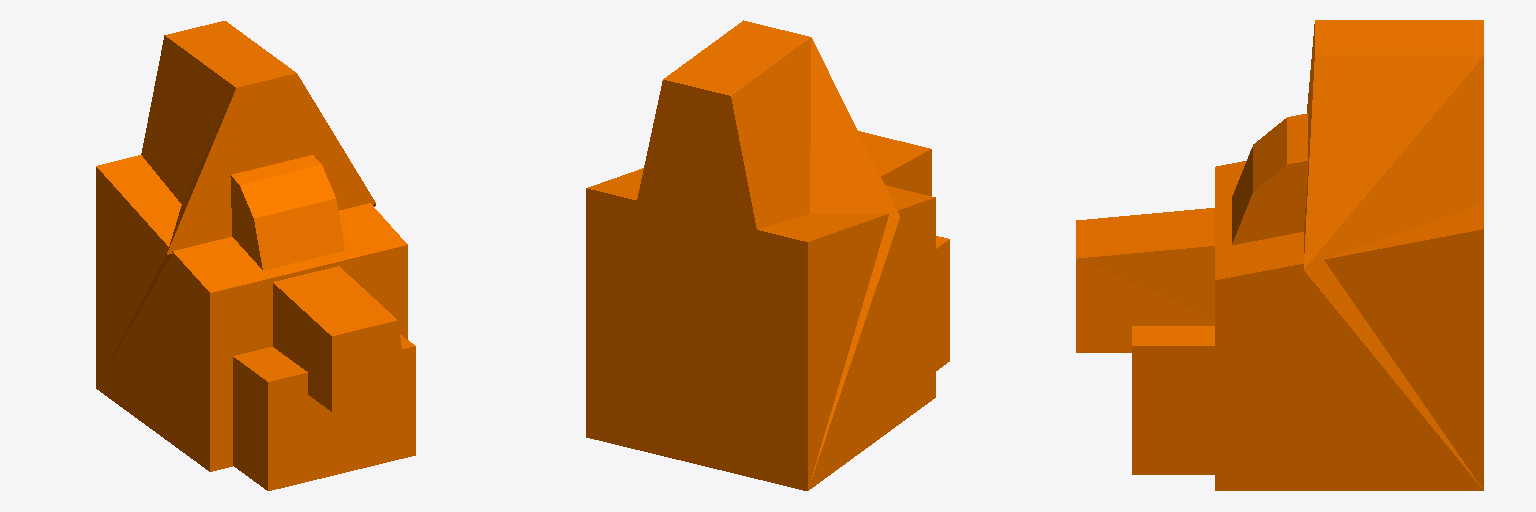
The robot description file, URDF, robot "wheelchair":
<?xml version="1.0" ?>
<robot name="wheelchair">
    <link name="base_link">
        <inertial>
            <mass value="5" />
            <origin xyz="0 0 0" rpy="0 0 0" />
            <inertia ixx="0.070968" ixy="-0.009135" ixz="-0.000056" iyy="0.048896" iyz="0.000007" izz="0.086415" />
        </inertial>
        <visual>
            <geometry>
                <mesh filename="wheelchair.dae" scale="1 1 1"/>
            </geometry>
            <material name="aluminium">
                <color rgba="0.827450980392156 0.827450980392156 0.827450980392156 1.0"/>
            </material>
        </visual>
        <collision>
            <geometry>
                <mesh filename="wheelchair.dae" scale="1 1 1"/>
            </geometry>
        </collision>
        <visual>
            <geometry>
                <mesh filename="wheelchair_collision.stl" scale="1 1 1"/>
            </geometry>
            <material name="orange">
                <color rgba="1 0.5 0 .2"/>
            </material>
        </visual>
        <collision>
            <geometry>
                <mesh filename="wheelchair_collision.stl" scale="1 1 1"/>
            </geometry>
        </collision>
    </link>
</robot>

--- What the picture shows (computed from the rendered views, not written in the file) ---
3 views of the same robot in one strip: view 1: azimuth 30°, elevation 25°; view 2: azimuth 150°, elevation 25°; view 3: azimuth 270°, elevation 25° (orthographic).
Model wheelchair with 1 links and 0 joints (none), rooted at base_link, posed all joints at 0.
Links seen in each view (by area): view 1: base_link; view 2: base_link; view 3: base_link.
Boxes of the visible links, bbox=[...] form: base_link: bbox=[96, 21, 415, 490]; base_link: bbox=[586, 20, 949, 490]; base_link: bbox=[1076, 20, 1483, 490].
Bounding box of the posed robot: 0.8497 × 1.21 × 1.3 m (x, y, z).
Meshes: 2 distinct files referenced, 1 mesh visuals loaded (1 binary STL); not drawn: 1 (reference not matched to a file when rendering).
